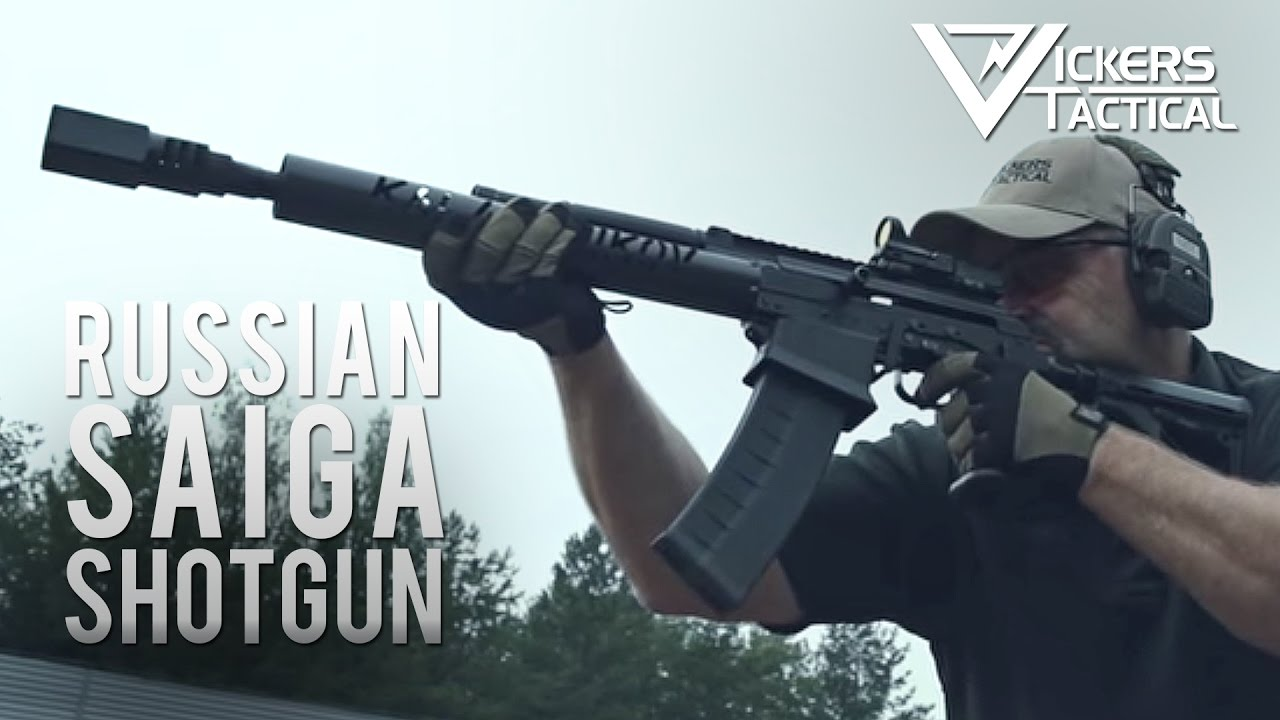Gun: (61, 103, 1251, 537)
